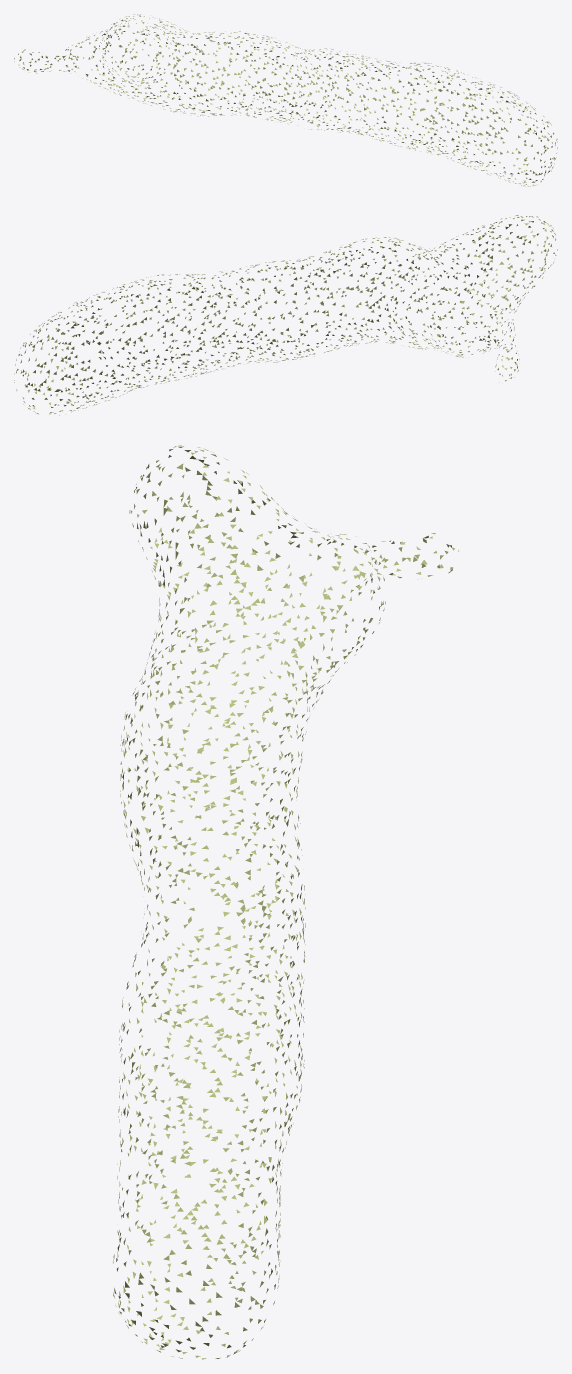
Rendered from morph_010.glb.
The picture shows the model from 3 angles, top to bottom: view 1: azimuth 30°, elevation 25°; view 2: azimuth 150°, elevation 25°; view 3: azimuth 270°, elevation 25°; orthographic projection. The views are drawn at different scales.
Bounding box in the file's own units: 119 × 63.23 × 38.07.
